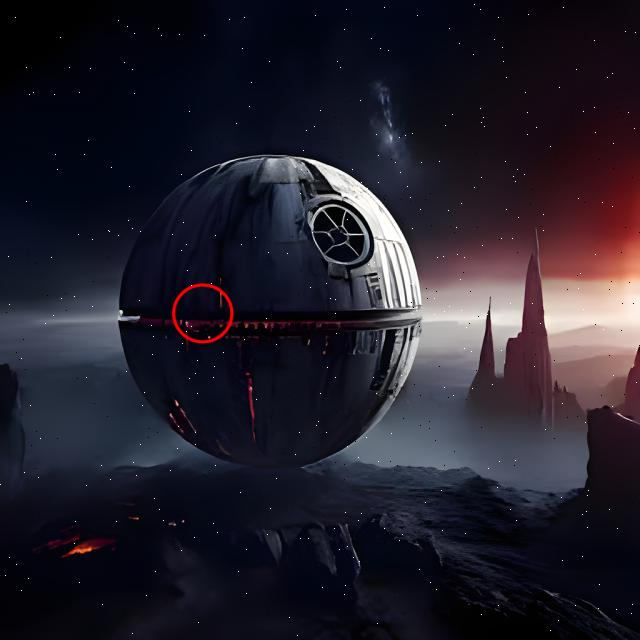Death-star: (117, 155, 424, 471)
